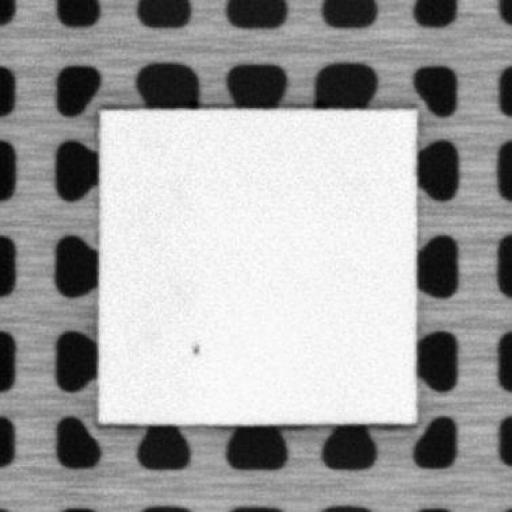DIE_INK: (187, 340, 202, 356)
